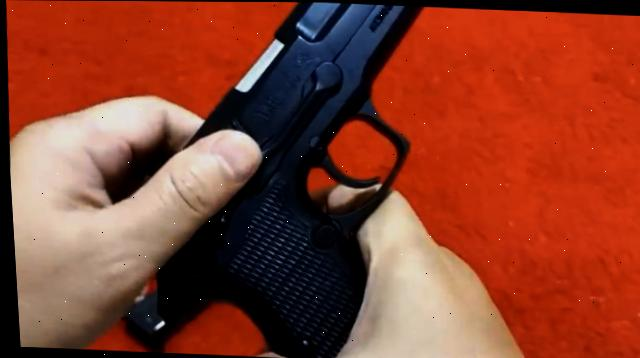pistol: (127, 1, 472, 358)
